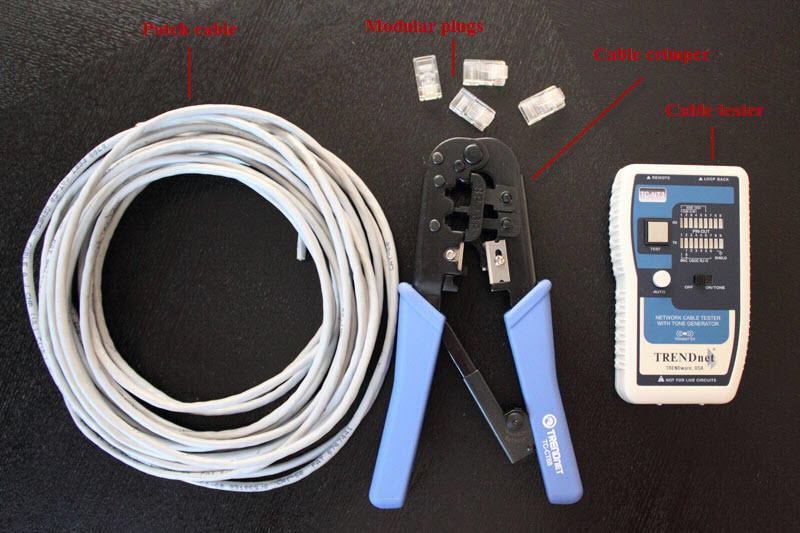Nonrec_Tangler: (4, 72, 413, 494), (362, 111, 643, 498), (593, 116, 761, 429)
